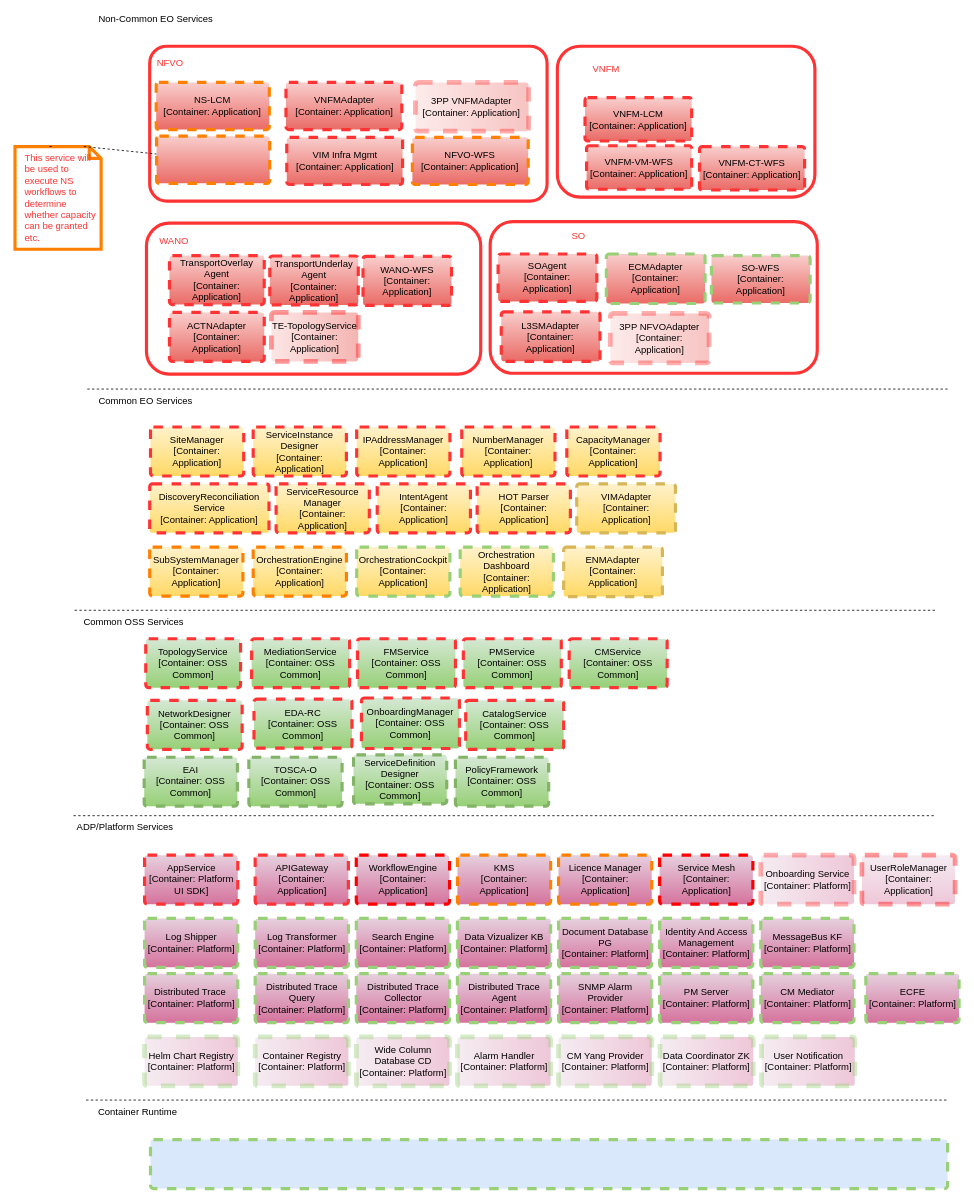
Image size: 974x1203. Some labels were removed from this diagram. The shapes that lost their labels are listed below. From the top down, each one's box as (x1, y1, x2, y2) in pixels, then its label:
(155, 134, 271, 185): NS-VNF-LCM [Container: Application ]
(149, 1138, 949, 1190): ECCD [Container: Runtime Environment ]
